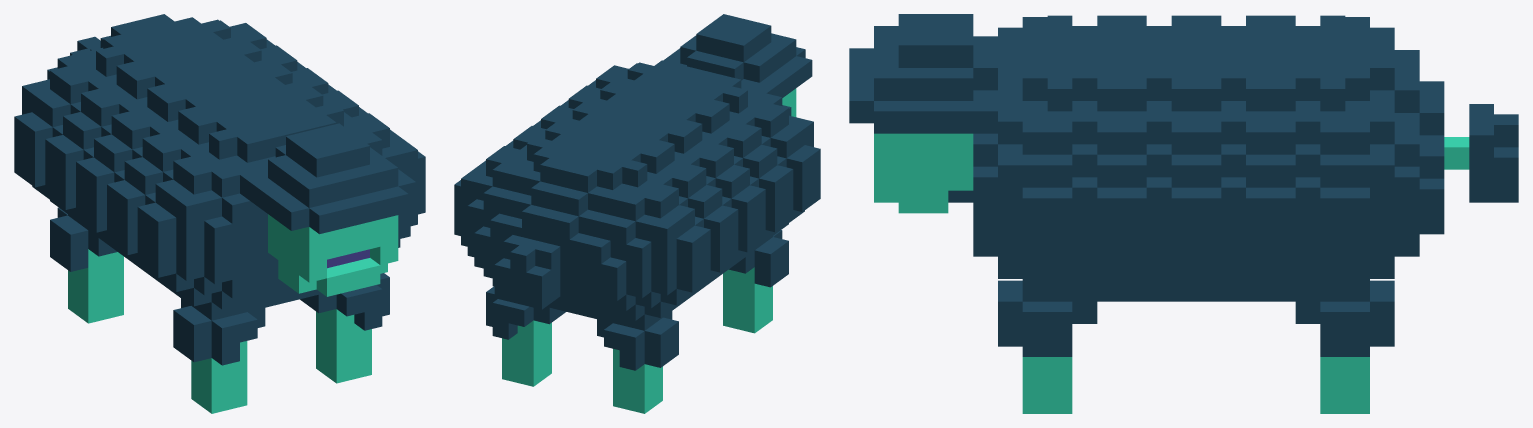
The model's file is kurcina.gltf.
The picture shows the model from 3 angles, left to right: view 1: azimuth 30°, elevation 25°; view 2: azimuth 150°, elevation 25°; view 3: azimuth 270°, elevation 25°; orthographic projection. The views are drawn at different scales.
Visible parts, largest first — view 1: kurcina; view 2: kurcina; view 3: kurcina.
Part boxes in pixels (x1,y1,x2,y2): kurcina: (14, 14, 425, 413); kurcina: (454, 14, 820, 413); kurcina: (849, 14, 1518, 413).
Size of the model in its own units: 15 by 15 by 27.
1 material, 1 textured.
